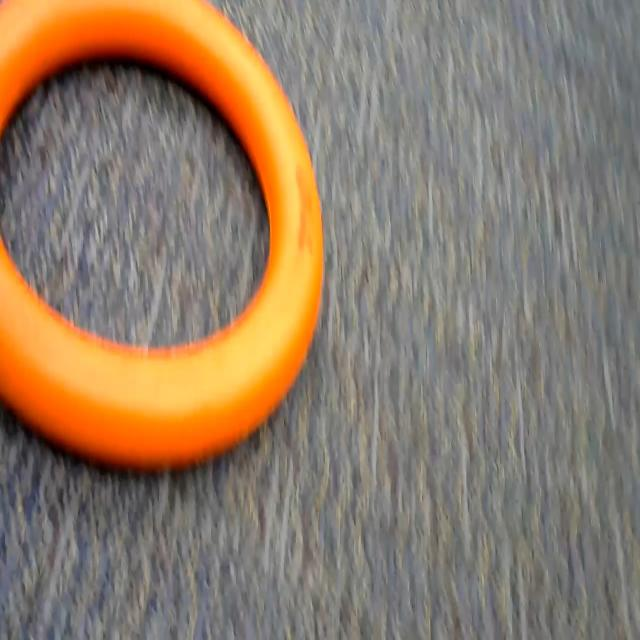note: (1, 0, 324, 477)
